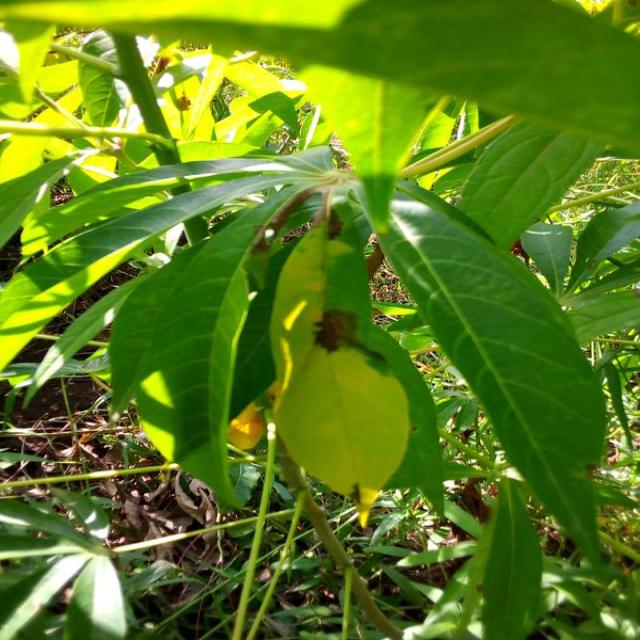cassava leaf: (371, 176, 608, 574), (268, 214, 442, 528)
